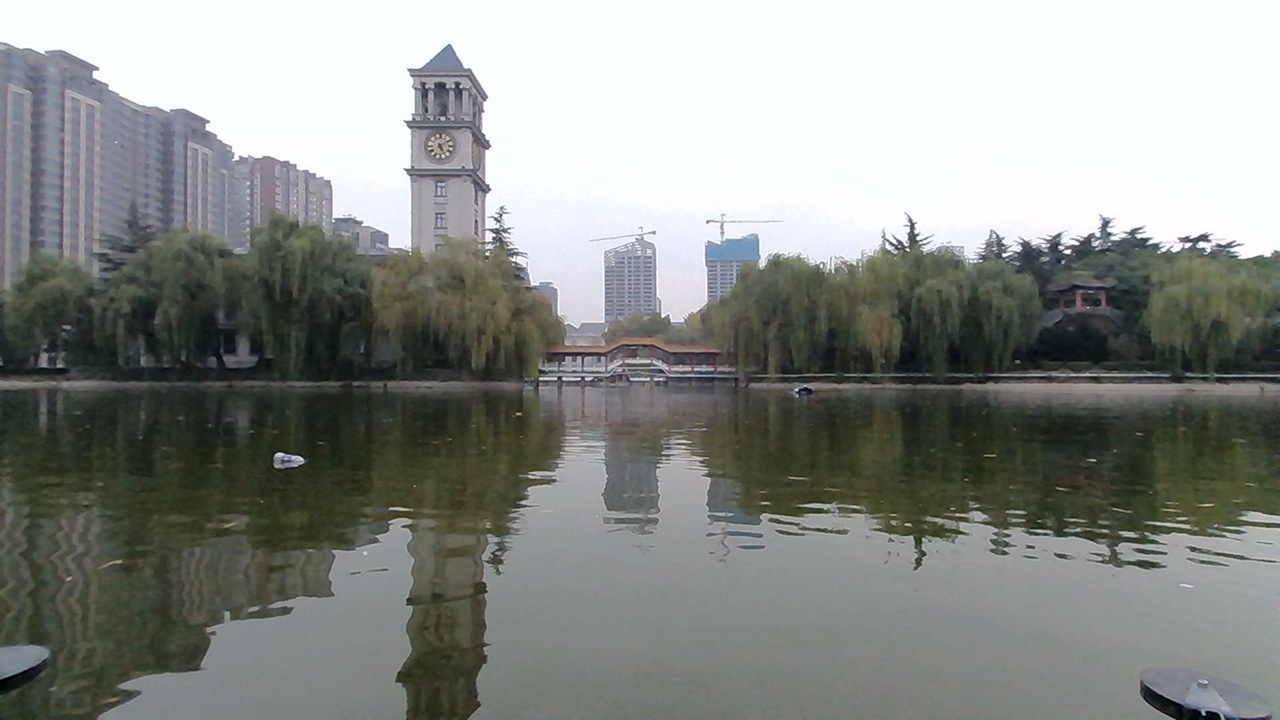bottle: (266, 441, 318, 479)
